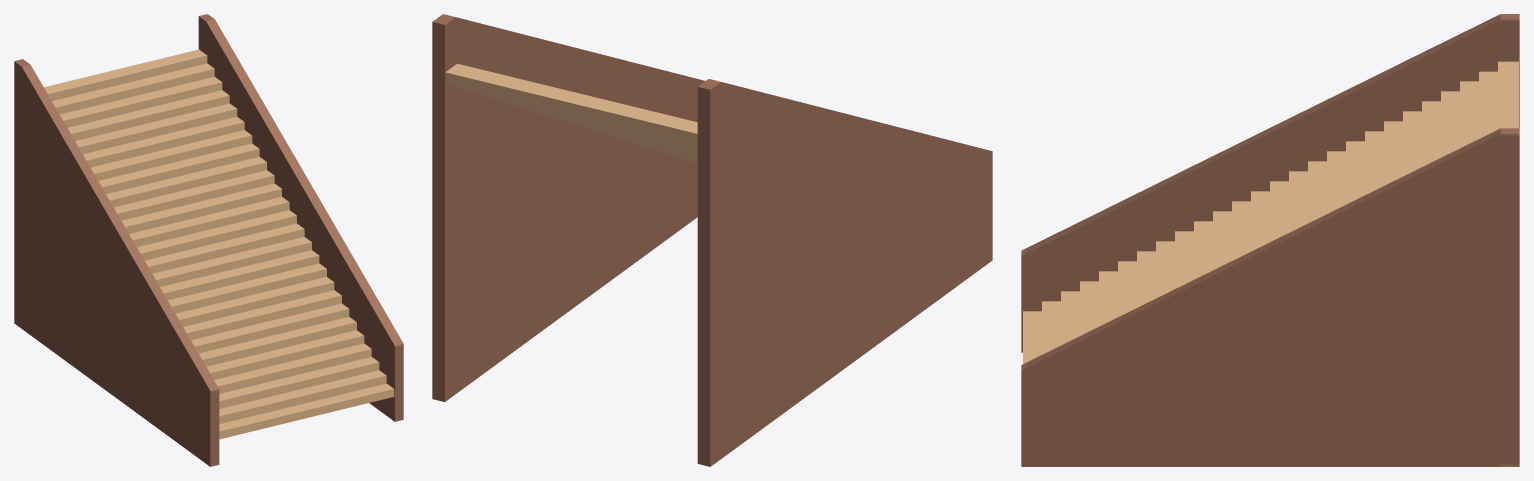
Rendered from stairs.fbx.
The picture shows the model from 3 angles, left to right: view 1: azimuth 30°, elevation 25°; view 2: azimuth 150°, elevation 25°; view 3: azimuth 270°, elevation 25°; orthographic projection. The views are drawn at different scales.
Visible parts, largest first — view 1: Plane.006, Cube.014; view 2: Cube.014, Plane.006; view 3: Cube.014, Plane.006.
Boxes of the visible parts, left/top/right/bottom form: Plane.006: left=44, top=49, right=394, bottom=439; Cube.014: left=14, top=14, right=403, bottom=466; Cube.014: left=432, top=14, right=992, bottom=466; Plane.006: left=445, top=63, right=697, bottom=163; Cube.014: left=1021, top=14, right=1519, bottom=466; Plane.006: left=1023, top=61, right=1518, bottom=363.
Bounding box in the file's own units: 1637 × 2120 × 2876.
